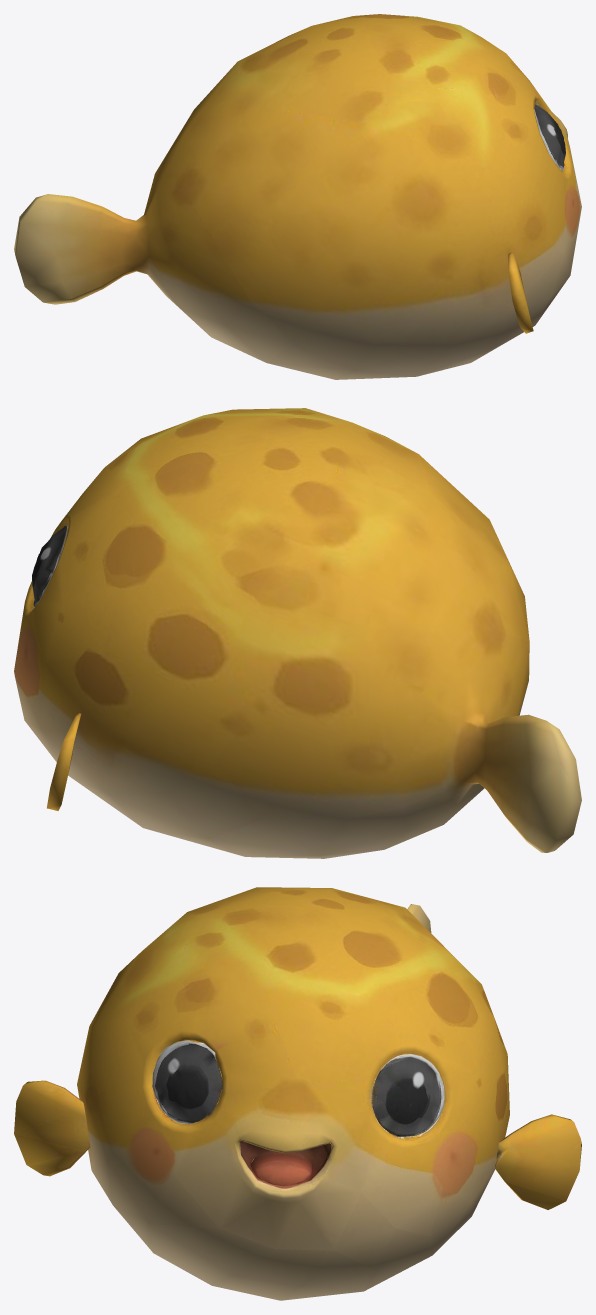
File: baby_pufferfish_clean.glb
3 views of the same model, one above another, from view 1: azimuth 30°, elevation 25°; view 2: azimuth 150°, elevation 25°; view 3: azimuth 270°, elevation 25° (orthographic). The views are drawn at different scales.
Parts seen in each view (by area): view 1: tripo_node_9237bc5f-228c-4371-b5fe-ae3af28377f4; view 2: tripo_node_9237bc5f-228c-4371-b5fe-ae3af28377f4; view 3: tripo_node_9237bc5f-228c-4371-b5fe-ae3af28377f4.
Part boxes in pixels (x1,y1,x2,y2): tripo_node_9237bc5f-228c-4371-b5fe-ae3af28377f4: (14, 14, 581, 379); tripo_node_9237bc5f-228c-4371-b5fe-ae3af28377f4: (14, 408, 581, 858); tripo_node_9237bc5f-228c-4371-b5fe-ae3af28377f4: (14, 887, 581, 1300).
Size of the model in its own units: 0.85 by 0.5409 by 0.7727.
1 material, 1 textured.
